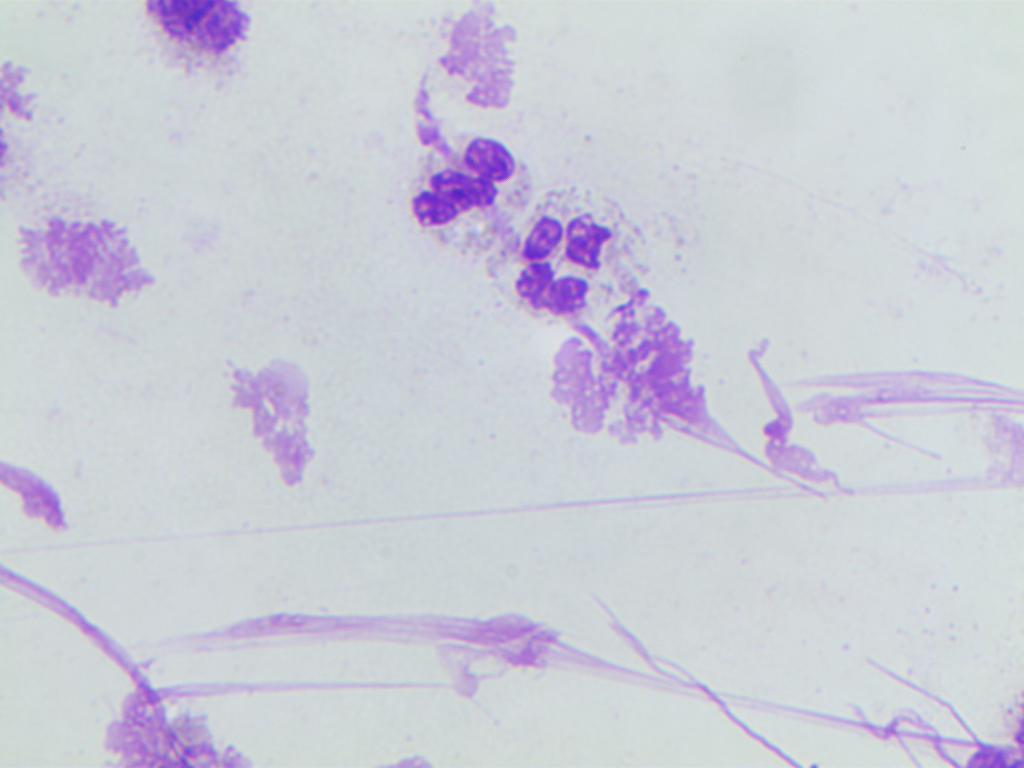neutrophil: (479, 189, 651, 322), (403, 138, 522, 248)
